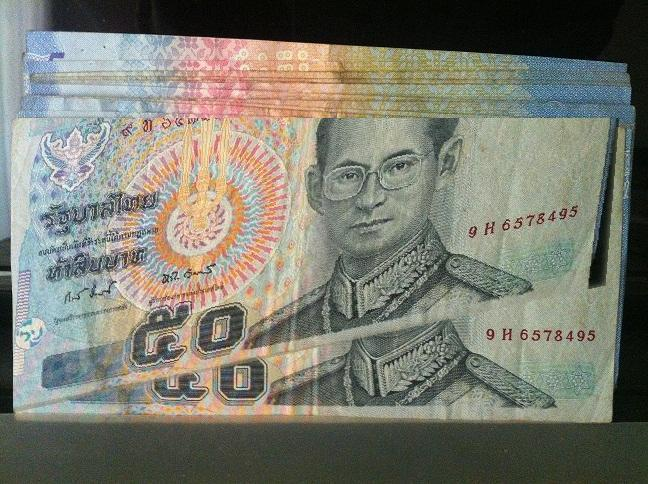50BahtTai: (13, 118, 630, 418)
